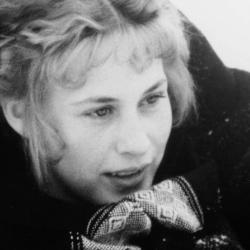face: (2, 1, 208, 204)
